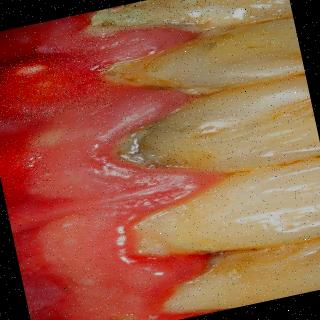Gum Swelling: (63, 15, 212, 320)
plaque: (101, 114, 253, 177), (123, 184, 237, 254), (99, 55, 241, 103), (92, 6, 202, 38), (156, 281, 241, 312), (199, 241, 270, 277)
